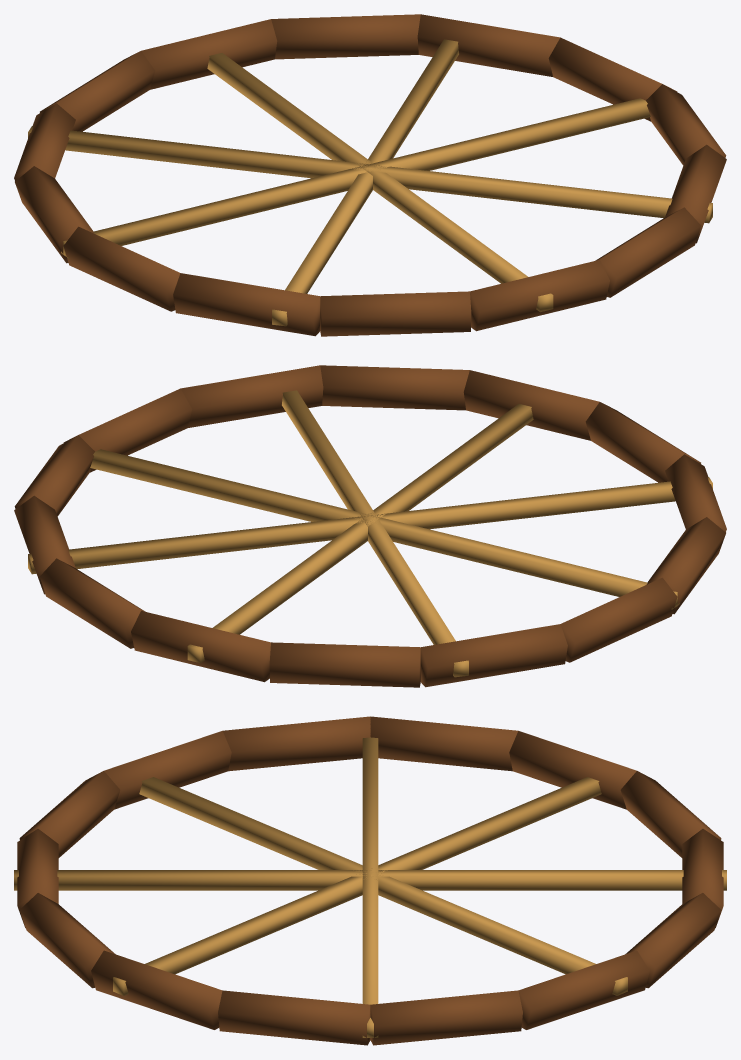
File: trap.glb
The picture shows the model from 3 angles, top to bottom: view 1: azimuth 30°, elevation 25°; view 2: azimuth 150°, elevation 25°; view 3: azimuth 270°, elevation 25°; orthographic projection.
Parts seen in each view (by area): view 1: trap_bar3, trap_bar0, trap_bar2, trap_ring9, trap_bar1, trap_ring2, trap_ring8, trap_ring10, trap_ring1, trap_ring3, trap_ring7, trap_ring11 (+6 smaller); view 2: trap_bar1, trap_bar0, trap_bar2, trap_bar3, trap_ring4, trap_ring11, trap_ring5, trap_ring3, trap_ring12, trap_ring10, trap_ring6, trap_ring2 (+6 smaller); view 3: trap_bar2, trap_bar1, trap_bar3, trap_ring0, trap_ring13, trap_ring6, trap_ring7, trap_ring1, trap_ring12, trap_bar0, trap_ring5, trap_ring8 (+6 smaller).
Boxes of the visible parts, x1,y1,x2,y2 form: trap_bar3: (28,126,712,223); trap_bar0: (61,98,650,258); trap_bar2: (207,53,553,312); trap_ring9: (320,291,471,336); trap_bar1: (272,39,458,326); trap_ring2: (271,14,420,59); trap_ring8: (173,273,320,336); trap_ring10: (470,259,609,331); trap_ring1: (417,14,560,76); trap_ring3: (141,19,277,89); trap_ring7: (63,226,180,311); trap_ring11: (595,207,701,297); trap_bar1: (28,477,712,574); trap_bar0: (90,449,679,609); trap_bar2: (187,404,533,663); trap_bar3: (282,390,468,677); trap_ring4: (269,642,420,687); trap_ring11: (320,365,469,410); trap_ring5: (420,624,567,687); trap_ring3: (131,610,270,682); trap_ring12: (180,365,323,427); trap_ring10: (463,370,599,440); trap_ring6: (560,577,677,662); trap_ring2: (39,558,145,648); trap_bar2: (14,870,726,890); trap_bar1: (139,777,627,995); trap_bar3: (113,777,601,995); trap_ring0: (370,990,522,1045); trap_ring13: (218,990,370,1045); trap_ring6: (370,716,517,771); trap_ring7: (223,716,370,771); trap_ring1: (518,950,649,1029); trap_ring12: (91,950,222,1029); trap_bar0: (362,737,378,1037); trap_ring5: (509,731,636,809); trap_ring8: (104,731,231,809).
Size of the model in its own units: 1.16 by 0.0633 by 1.15.
